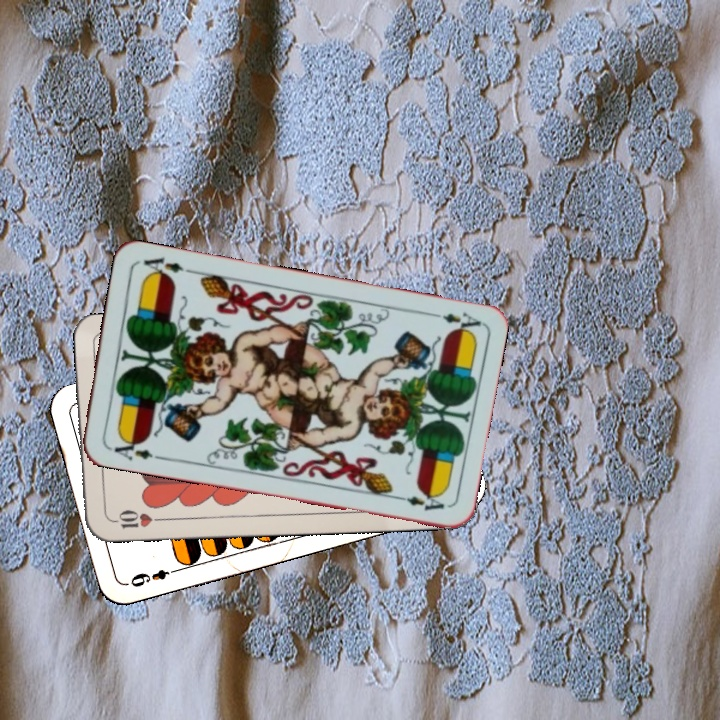E9: (126, 564, 182, 590)
EA: (423, 307, 482, 336), (110, 433, 163, 463)
H10: (106, 506, 165, 531)
